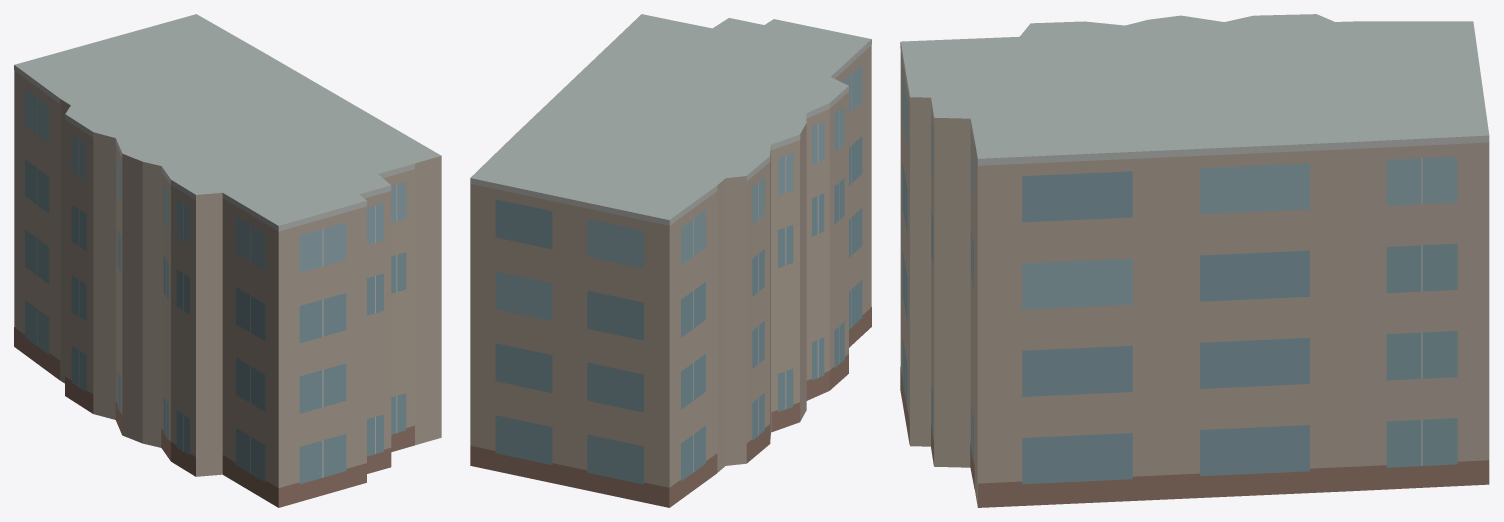
The model's file is survey-upis-32933230.glb.
3 views of the same model, side by side, from view 1: azimuth 30°, elevation 25°; view 2: azimuth 150°, elevation 25°; view 3: azimuth 270°, elevation 25° (orthographic). The views are drawn at different scales.
Parts seen in each view (by area): view 1: survey-upis-32933230.tmp; view 2: survey-upis-32933230.tmp; view 3: survey-upis-32933230.tmp.
Boxes of the visible parts, <box> form: survey-upis-32933230.tmp: <box>14,14,441,507</box>; survey-upis-32933230.tmp: <box>470,14,871,507</box>; survey-upis-32933230.tmp: <box>900,14,1489,507</box>.
Bounding box in the file's own units: 10.96 × 12.3 × 18.82.
